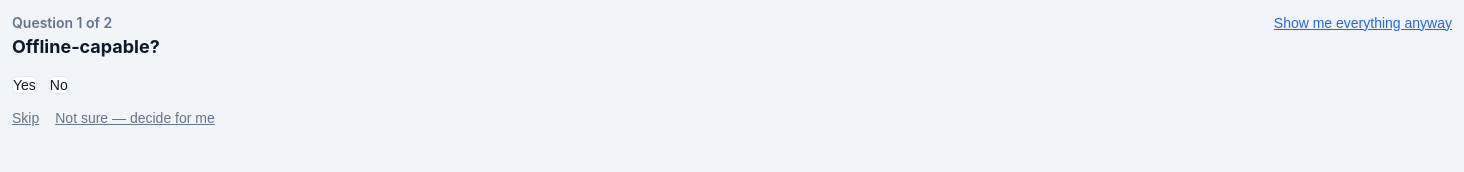
Test: GuidedQuestionStep › renders exactly the configured questions, each skippable, one at a time
Expected: the button with class "decide-btn" is shown, left=55, top=110, right=215, bottom=126
Click the button with class "skip-btn". click: (26, 118)
box: left=12, top=110, right=39, bottom=126
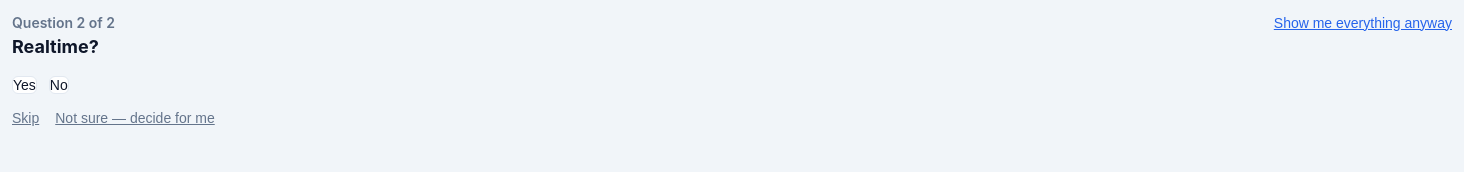
Result: the text "Realtime?" is shown at left=12, top=36, right=99, bottom=57
